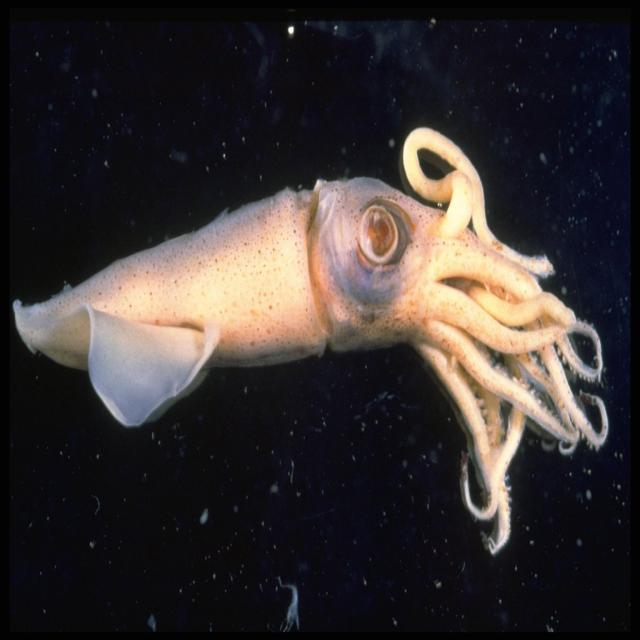squid: (13, 128, 609, 553)
